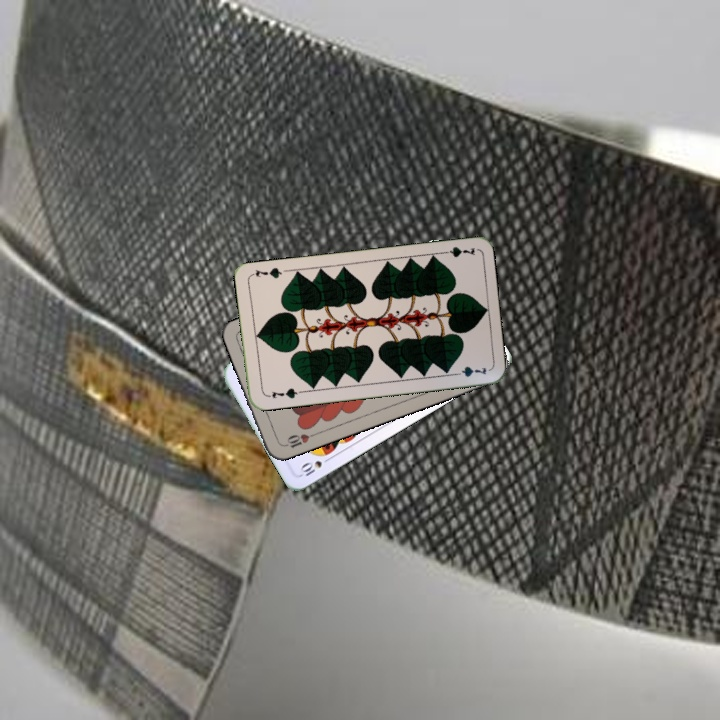G7: (436, 242, 477, 260), (263, 384, 303, 401)
H10: (278, 429, 318, 451)
S10: (296, 453, 334, 480)
